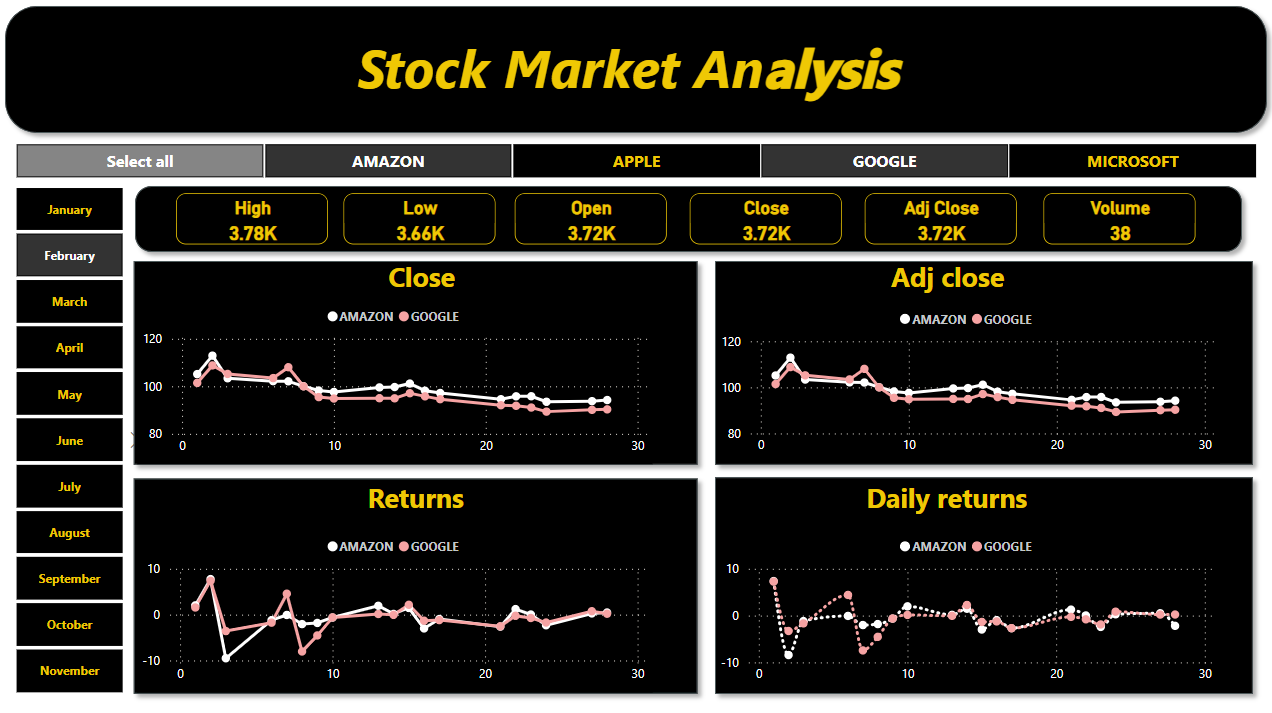

The page's visual inventory and layout, read from the dashboard file:
{"tool":"powerbi","page":{"name":"Page 2","canvas":[1280,720],"ordinal":0},"visuals":[{"type":"shape","box":[0,0,1280,145],"z":0},{"type":"slicer","fields":{"Values":["Table1.company_name"]},"box":[0,145,1279,37.5],"z":1000},{"type":"slicer","fields":{"Values":["Table1.Date.Variation.Date Hierarchy.Month"]},"box":[0,189,145,508],"z":2000},{"type":"shape","box":[128.2,254.9,581.8,221.8],"z":3000},{"type":"textbox","box":[171,28.9,921.1,105.4],"z":4000},{"type":"lineChart","fields":{"Y":["Sum(Table1 (2).Close)"],"Series":["Table1 (2).company_name"],"Category":["Table1 (2).Date.Variation.Date Hierarchy.Day"]},"box":[141.1,299.5,515.5,167],"z":5000},{"type":"textbox","box":[270,256,311,46.1],"z":6000},{"type":"shape","box":[709.9,254.9,555.8,221.8],"z":7000},{"type":"textbox","box":[819.4,256,273,46.1],"z":8000},{"type":"shape","box":[709.9,470.9,555.8,234.7],"z":9000},{"type":"textbox","box":[819.4,477,256.3,46.1],"z":10000},{"type":"lineChart","fields":{"Y":["Sum(Table1 (2).Daily Return)"],"Series":["Table1 (2).company_name"],"Category":["Table1 (2).Date.Variation.Date Hierarchy.Day"]},"box":[720,529.9,504,165.6],"z":11000},{"type":"lineChart","fields":{"Y":["Sum(Table1 (2).Adj Close)"],"Series":["Table1 (2).company_name"],"Category":["Table1 (2).Date.Variation.Date Hierarchy.Day"]},"box":[720,302.4,504,164.2],"z":12000},{"type":"shape","box":[130,180,1125,84],"z":13000},{"type":"card","title":"High","fields":{"Values":["Sum(Table1 (2).High)"]},"box":[180,196,152,51],"z":14000},{"type":"shape","box":[128.2,472.3,581.8,233.3],"z":15000},{"type":"textbox","box":[270.7,477,296.6,46.1],"z":16000},{"type":"lineChart","fields":{"Y":["Sum(Table1 (2).returns)"],"Series":["Table1 (2).company_name"],"Category":["Table1 (2).Date.Variation.Date Hierarchy.Day"]},"box":[141.1,529.9,515.5,165.6],"z":17000},{"type":"card","title":"Low","fields":{"Values":["Sum(Table1 (2).Low)"]},"box":[347,196,152,51],"z":18000},{"type":"card","title":"Open","fields":{"Values":["Sum(Table1 (2).Open)"]},"box":[518.4,196,152,51],"z":19000},{"type":"card","title":"Close","fields":{"Values":["Sum(Table1 (2).Close)"]},"box":[694.1,196,152,51],"z":20000},{"type":"card","title":"Adj Close","fields":{"Values":["Sum(Table1 (2).Adj Close)"]},"box":[868.3,196,152,51],"z":21000},{"type":"card","title":"Volume","fields":{"Values":["CountNonNull(Table1 (2).Volume)"]},"box":[1046.9,196,152,51],"z":22000}]}

Visuals, with their boxes in screenshot pixels (x1, y1, x2, y2), scaled from the page's 1280x720 canvas onto the 1272x713 screenshot:
shape: Rect(0, 0, 1271, 144)
slicer - Table1.company_name: Rect(0, 144, 1271, 181)
slicer - Table1.Date.Variation.Date Hierarchy.Month: Rect(0, 187, 144, 690)
shape: Rect(127, 252, 706, 472)
textbox: Rect(170, 29, 1085, 133)
lineChart - Sum(Table1 (2).Close) x Table1 (2).company_name: Rect(140, 297, 652, 462)
textbox: Rect(268, 254, 577, 299)
shape: Rect(705, 252, 1258, 472)
textbox: Rect(814, 254, 1086, 299)
shape: Rect(705, 466, 1258, 699)
textbox: Rect(814, 472, 1069, 518)
lineChart - Sum(Table1 (2).Daily Return) x Table1 (2).company_name: Rect(716, 525, 1216, 689)
lineChart - Sum(Table1 (2).Adj Close) x Table1 (2).company_name: Rect(716, 299, 1216, 462)
shape: Rect(129, 178, 1247, 261)
"High" card: Rect(179, 194, 330, 245)
shape: Rect(127, 468, 706, 699)
textbox: Rect(269, 472, 564, 518)
lineChart - Sum(Table1 (2).returns) x Table1 (2).company_name: Rect(140, 525, 652, 689)
"Low" card: Rect(345, 194, 496, 245)
"Open" card: Rect(515, 194, 666, 245)
"Close" card: Rect(690, 194, 841, 245)
"Adj Close" card: Rect(863, 194, 1014, 245)
"Volume" card: Rect(1040, 194, 1191, 245)
